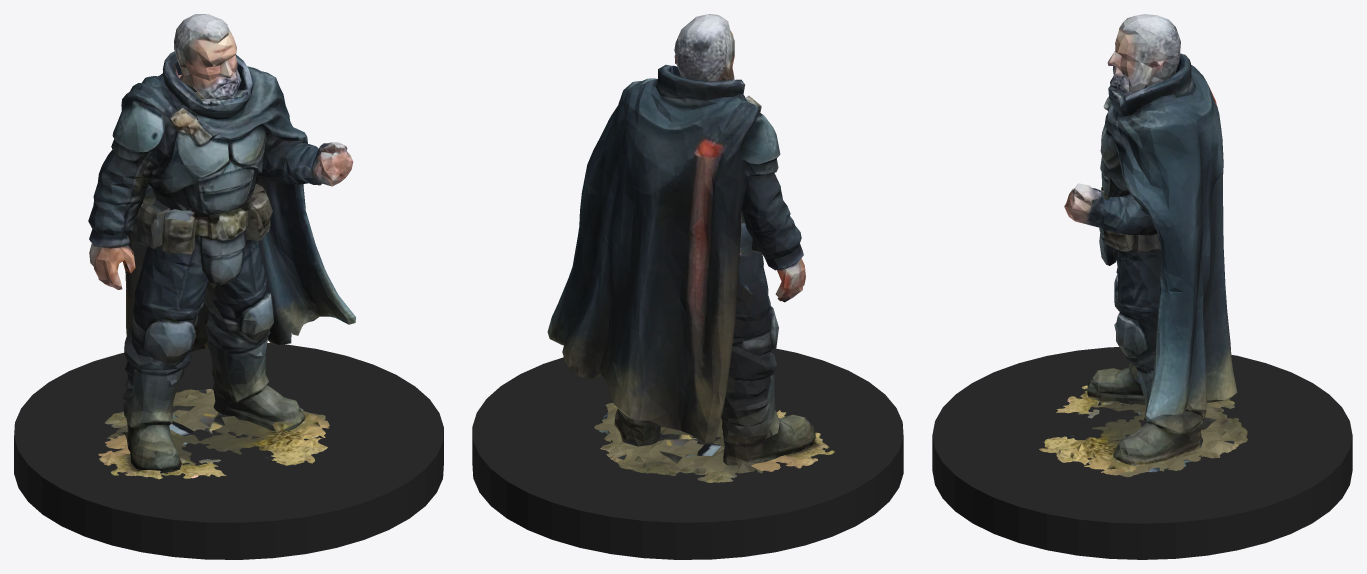
Rendered from paladin.glb.
The picture shows the model from 3 angles, left to right: view 1: azimuth 30°, elevation 25°; view 2: azimuth 150°, elevation 25°; view 3: azimuth 270°, elevation 25°; orthographic projection. The views are drawn at different scales.
Parts seen in each view (by area): view 1: figure, base; view 2: figure, base; view 3: base, figure.
Boxes of the visible parts, box(x1,y1,x2,y2) form: figure: box(88, 14, 355, 479); base: box(14, 343, 443, 559); figure: box(547, 14, 834, 482); base: box(472, 348, 903, 559); base: box(932, 347, 1352, 559); figure: box(1037, 14, 1247, 477).
Size of the model in its own units: 1.26 by 1.47 by 1.26.
2 materials, 1 textured.
